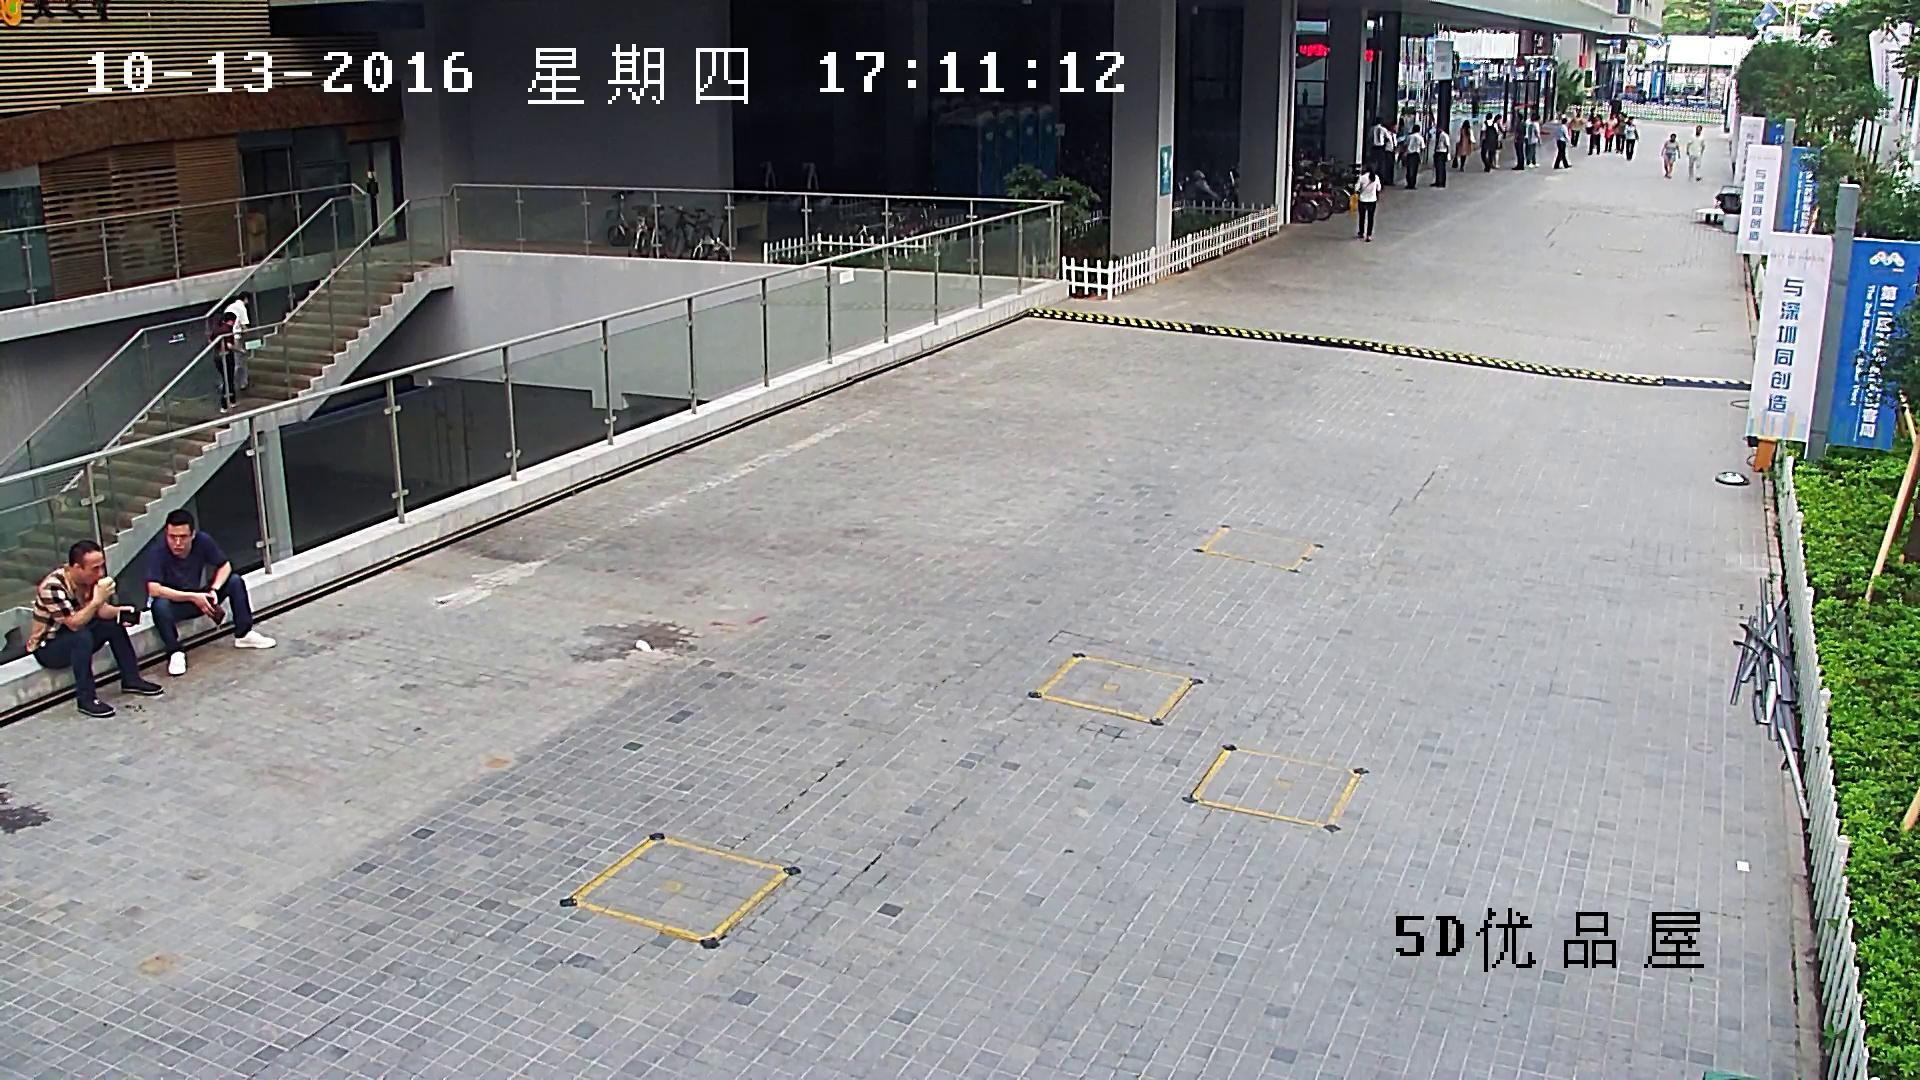person: (24, 540, 162, 717), (147, 510, 277, 676), (208, 311, 246, 412), (222, 290, 250, 389), (1354, 162, 1381, 241), (1365, 117, 1390, 191), (1398, 124, 1425, 190), (1452, 120, 1476, 172), (1429, 126, 1449, 187), (248, 203, 268, 264), (1479, 113, 1498, 172), (1686, 124, 1705, 181), (1552, 117, 1572, 168), (1526, 113, 1541, 168), (1661, 133, 1680, 178), (1511, 113, 1525, 169), (1587, 115, 1604, 155), (1384, 121, 1395, 186), (1623, 116, 1638, 160), (1493, 114, 1503, 169), (1568, 113, 1583, 146), (1613, 113, 1624, 153), (1604, 116, 1615, 151), (1608, 94, 1621, 117)
